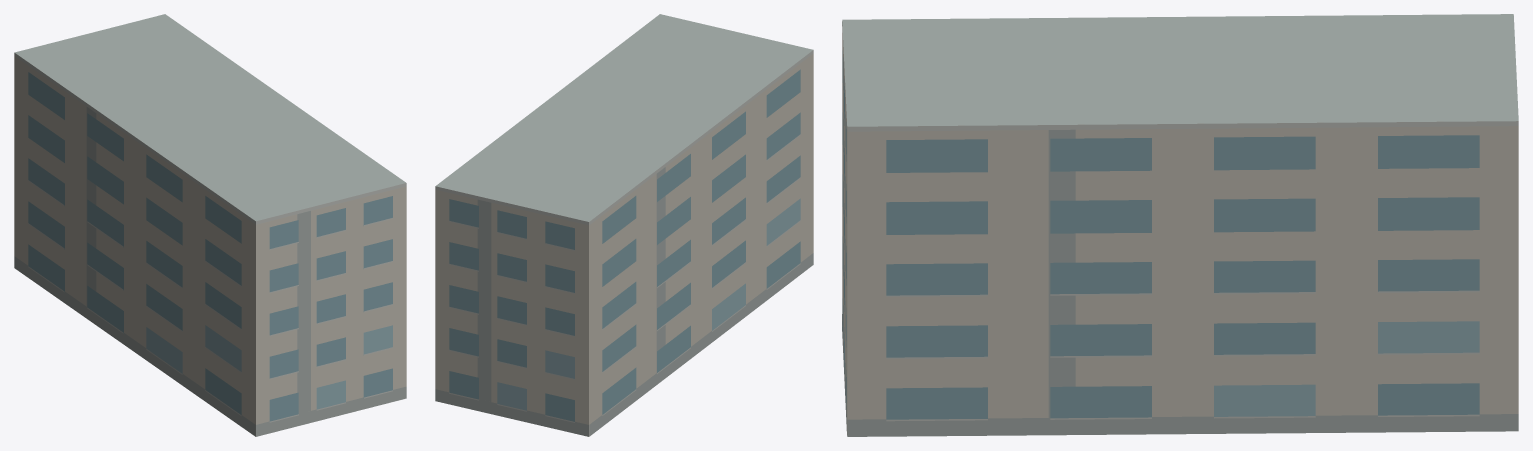
File: residential-bc786ae1-dcbd-456c-8239-13255bd8b0ef.glb
3 views of the same model, side by side, from view 1: azimuth 30°, elevation 25°; view 2: azimuth 150°, elevation 25°; view 3: azimuth 270°, elevation 25° (orthographic). The views are drawn at different scales.
Parts seen in each view (by area): view 1: residential-bc786ae1-dcbd-456c-8239-13255bd8b0ef.tmp; view 2: residential-bc786ae1-dcbd-456c-8239-13255bd8b0ef.tmp; view 3: residential-bc786ae1-dcbd-456c-8239-13255bd8b0ef.tmp.
Boxes of the visible parts, x1,y1,x2,y2 form: residential-bc786ae1-dcbd-456c-8239-13255bd8b0ef.tmp: (14,14,406,436); residential-bc786ae1-dcbd-456c-8239-13255bd8b0ef.tmp: (435,14,813,436); residential-bc786ae1-dcbd-456c-8239-13255bd8b0ef.tmp: (842,14,1518,436).
Bounding box in the file's own units: 11.89 × 15.25 × 30.16.
